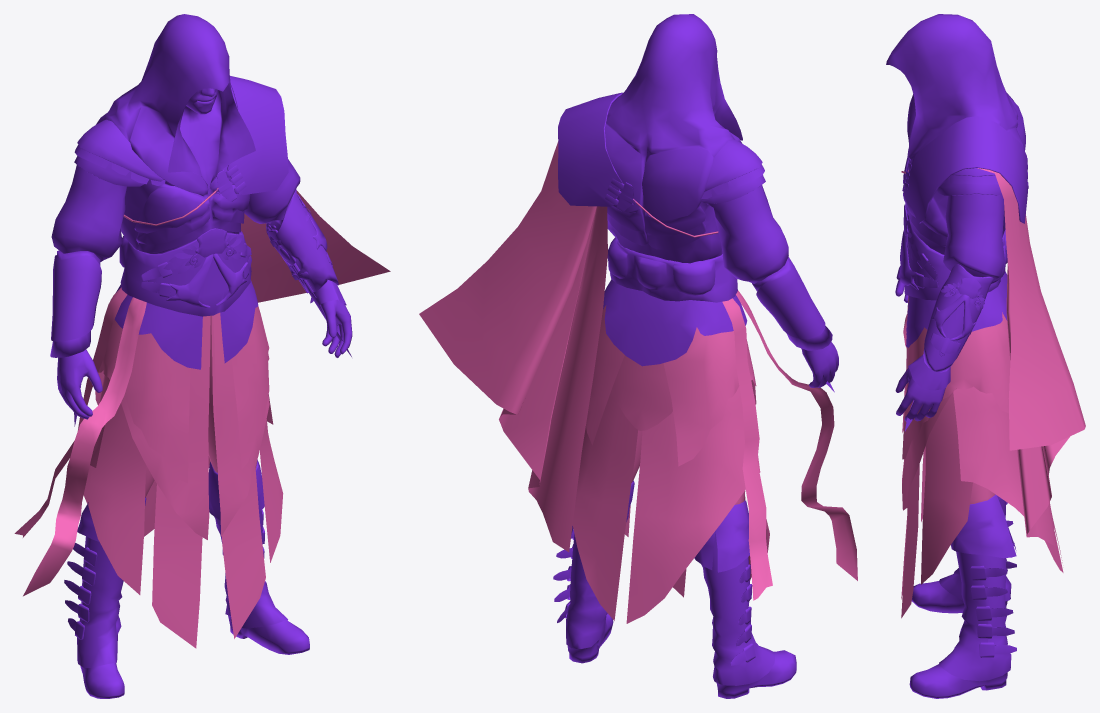
Rendered from ezio.FBX.
3 renders of one model, left to right at view 1: azimuth 30°, elevation 25°; view 2: azimuth 150°, elevation 25°; view 3: azimuth 270°, elevation 25°, orthographic. The views are drawn at different scales.
Visible parts, largest first — view 1: ezio; view 2: ezio; view 3: ezio.
Boxes of the visible parts, left/top/right/bottom form: ezio: left=14, top=14, right=390, bottom=698; ezio: left=419, top=14, right=857, bottom=698; ezio: left=886, top=14, right=1085, bottom=698.
Size of the model in its own units: 93.52 by 143 by 40.87.
